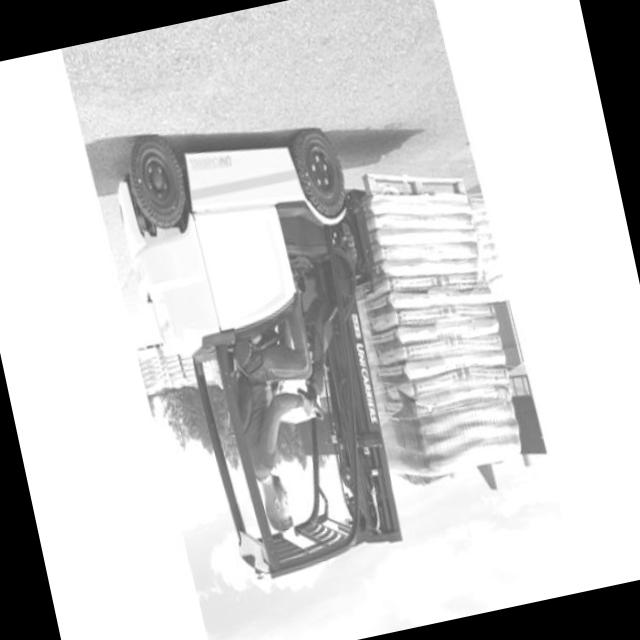driver: (206, 248, 377, 540)
forklift: (95, 85, 434, 604)
